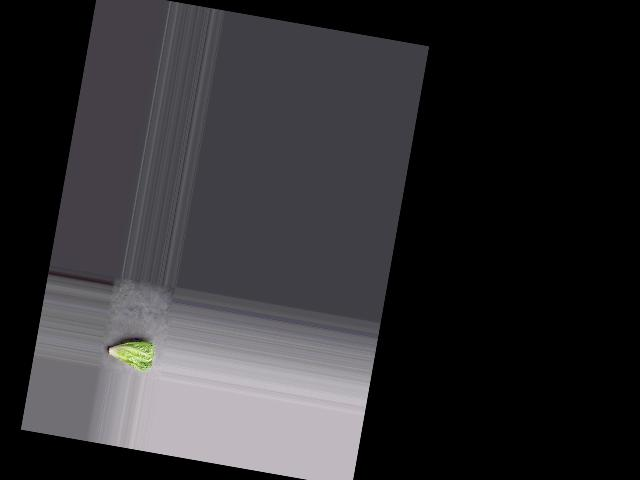lettuce: (102, 333, 156, 373)
